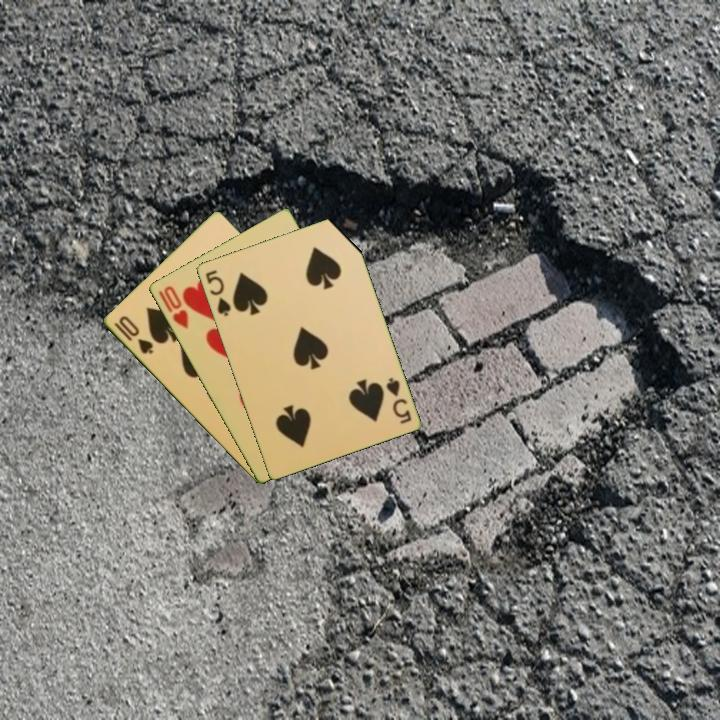10h: (155, 282, 191, 332)
10s: (110, 312, 156, 357)
5s: (382, 374, 414, 427), (202, 266, 233, 319)
